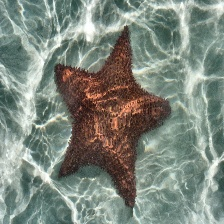starfish: (52, 19, 171, 214)
